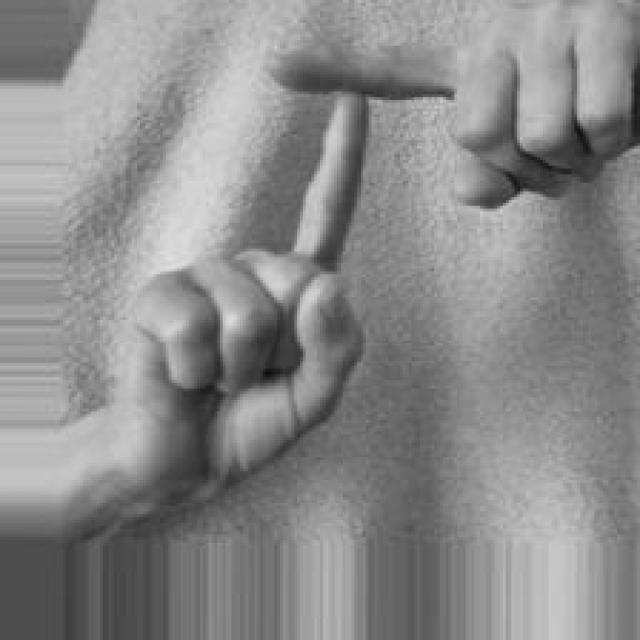T: (112, 0, 640, 518)
